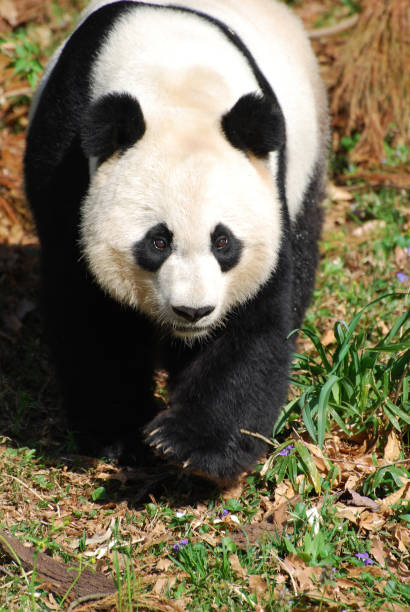panda: (57, 80, 302, 354)
